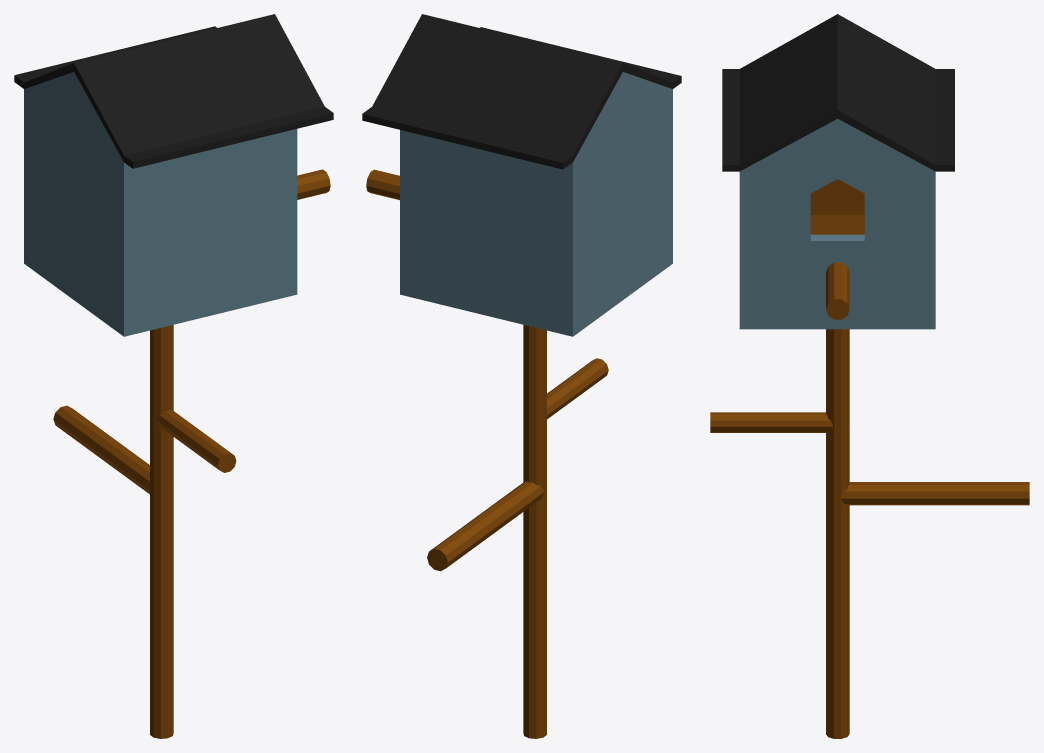
Rendered from birdperch.fbx.
3 views of the same model, side by side, from view 1: azimuth 30°, elevation 25°; view 2: azimuth 150°, elevation 25°; view 3: azimuth 270°, elevation 25° (orthographic). The views are drawn at different scales.
Parts seen in each view (by area): view 1: Cube; view 2: Cube; view 3: Cube.
Boxes of the visible parts, x1,y1,x2,y2 form: Cube: [14, 14, 333, 738]; Cube: [362, 14, 681, 738]; Cube: [710, 14, 1029, 738].
Bounding box in the file's own units: 2.9 × 7.64 × 3.26.
